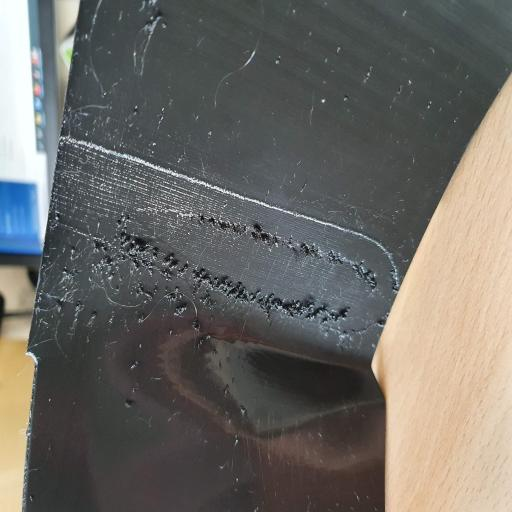cracks: (27, 154, 403, 358)
